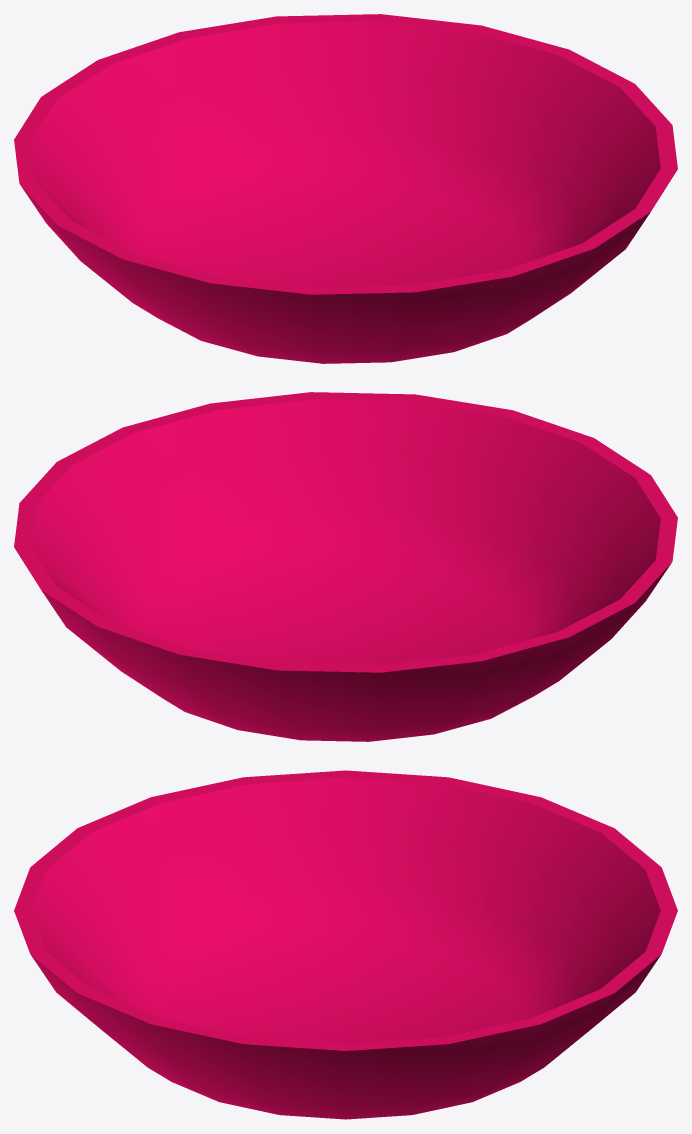
File: Bowl_02_Lod0.fbx
3 renders of one model, top to bottom at view 1: azimuth 30°, elevation 25°; view 2: azimuth 150°, elevation 25°; view 3: azimuth 270°, elevation 25°, orthographic.
Parts seen in each view (by area): view 1: Bowl_02_Lod0; view 2: Bowl_02_Lod0; view 3: Bowl_02_Lod0.
Part boxes in pixels (bbox=[...]): Bowl_02_Lod0: bbox=[14, 14, 677, 363]; Bowl_02_Lod0: bbox=[14, 392, 677, 741]; Bowl_02_Lod0: bbox=[14, 770, 677, 1119].
Bounding box in the file's own units: 33.56 × 6.94 × 33.56.
